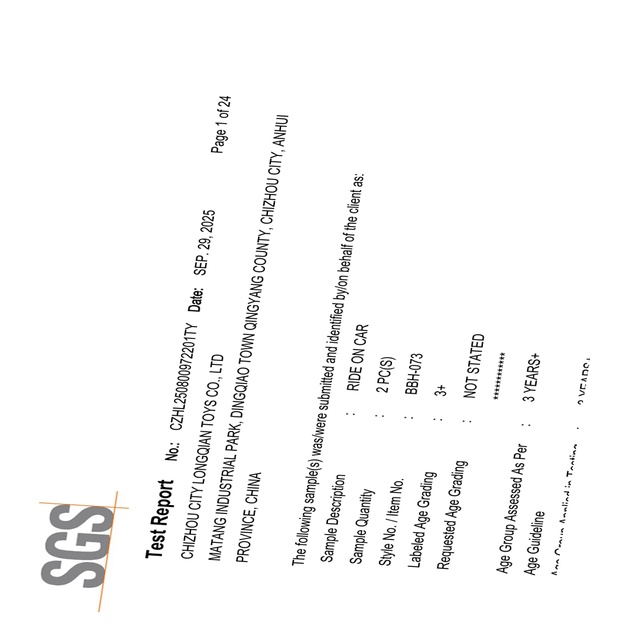sgs: (42, 502, 114, 589)
